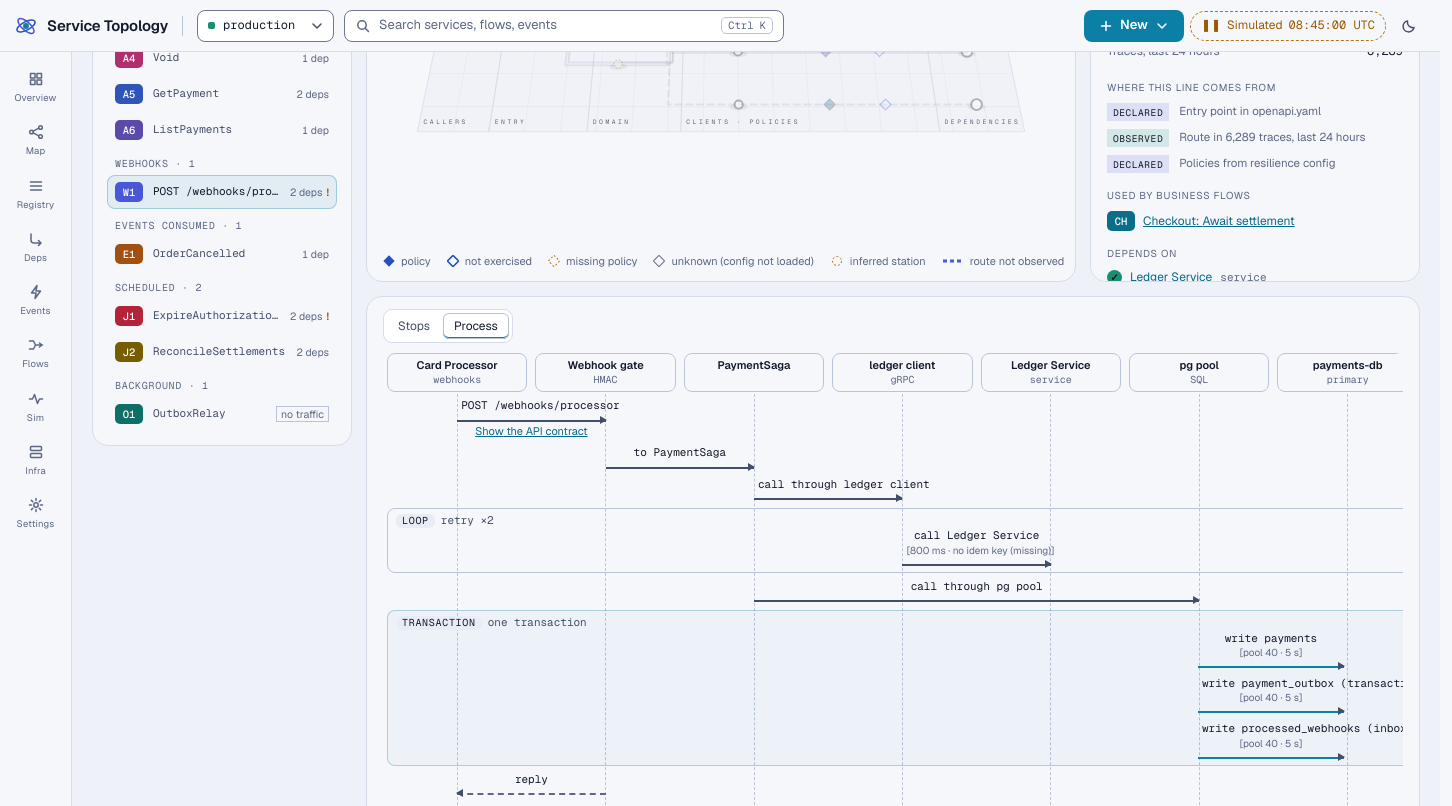
Test: endpoint contracts (ADR-029) › shows the webhook’s event variants from its line’s first arrow
(page scrolled)
Click the button "Show the API contract".
click(531, 432)  # box [471,424,592,439]
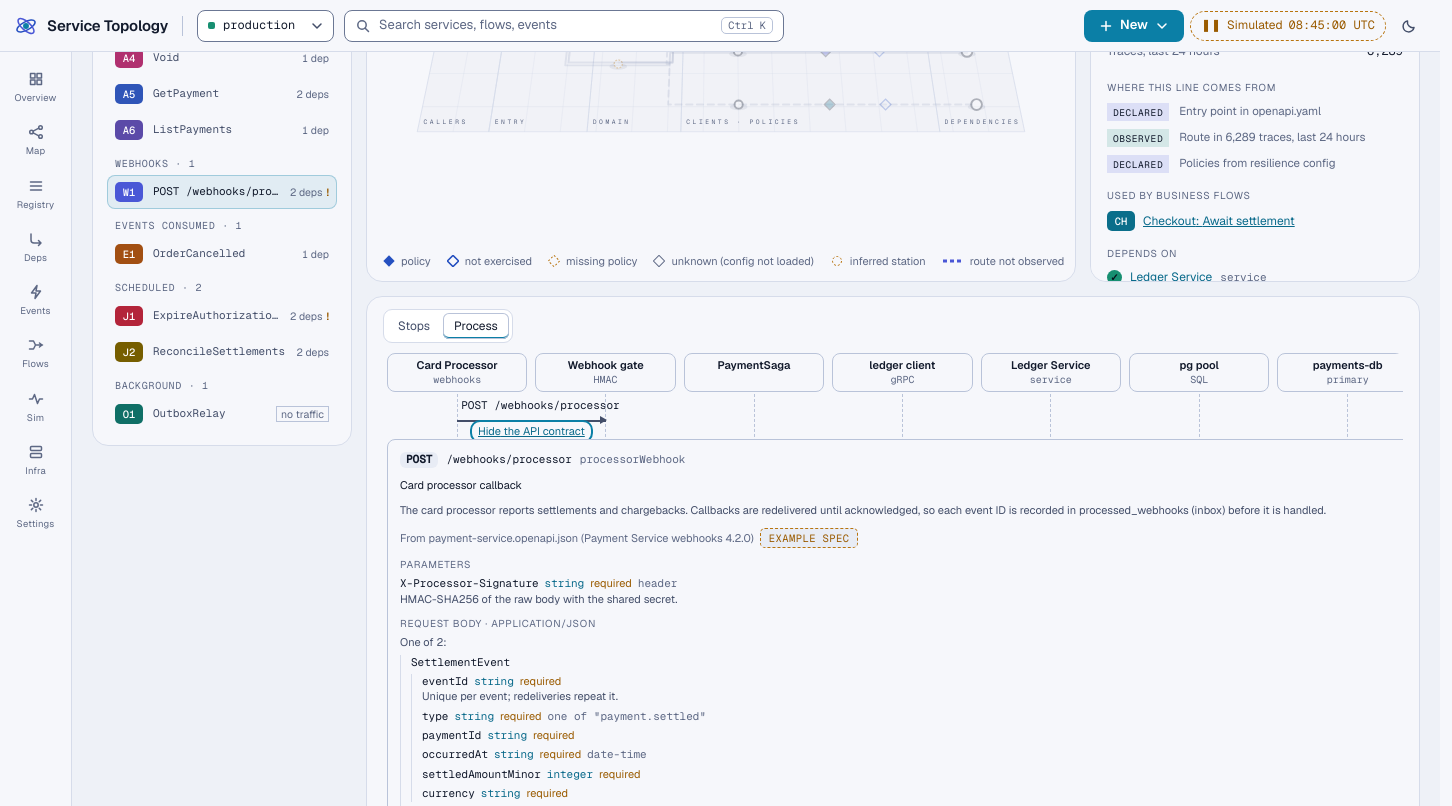
Expected: the text "SettlementEvent" is shown, [411,654,510,668]
Expected: the element that starts with "X-Processor-Signature" shows "required", [590,576,632,590]
